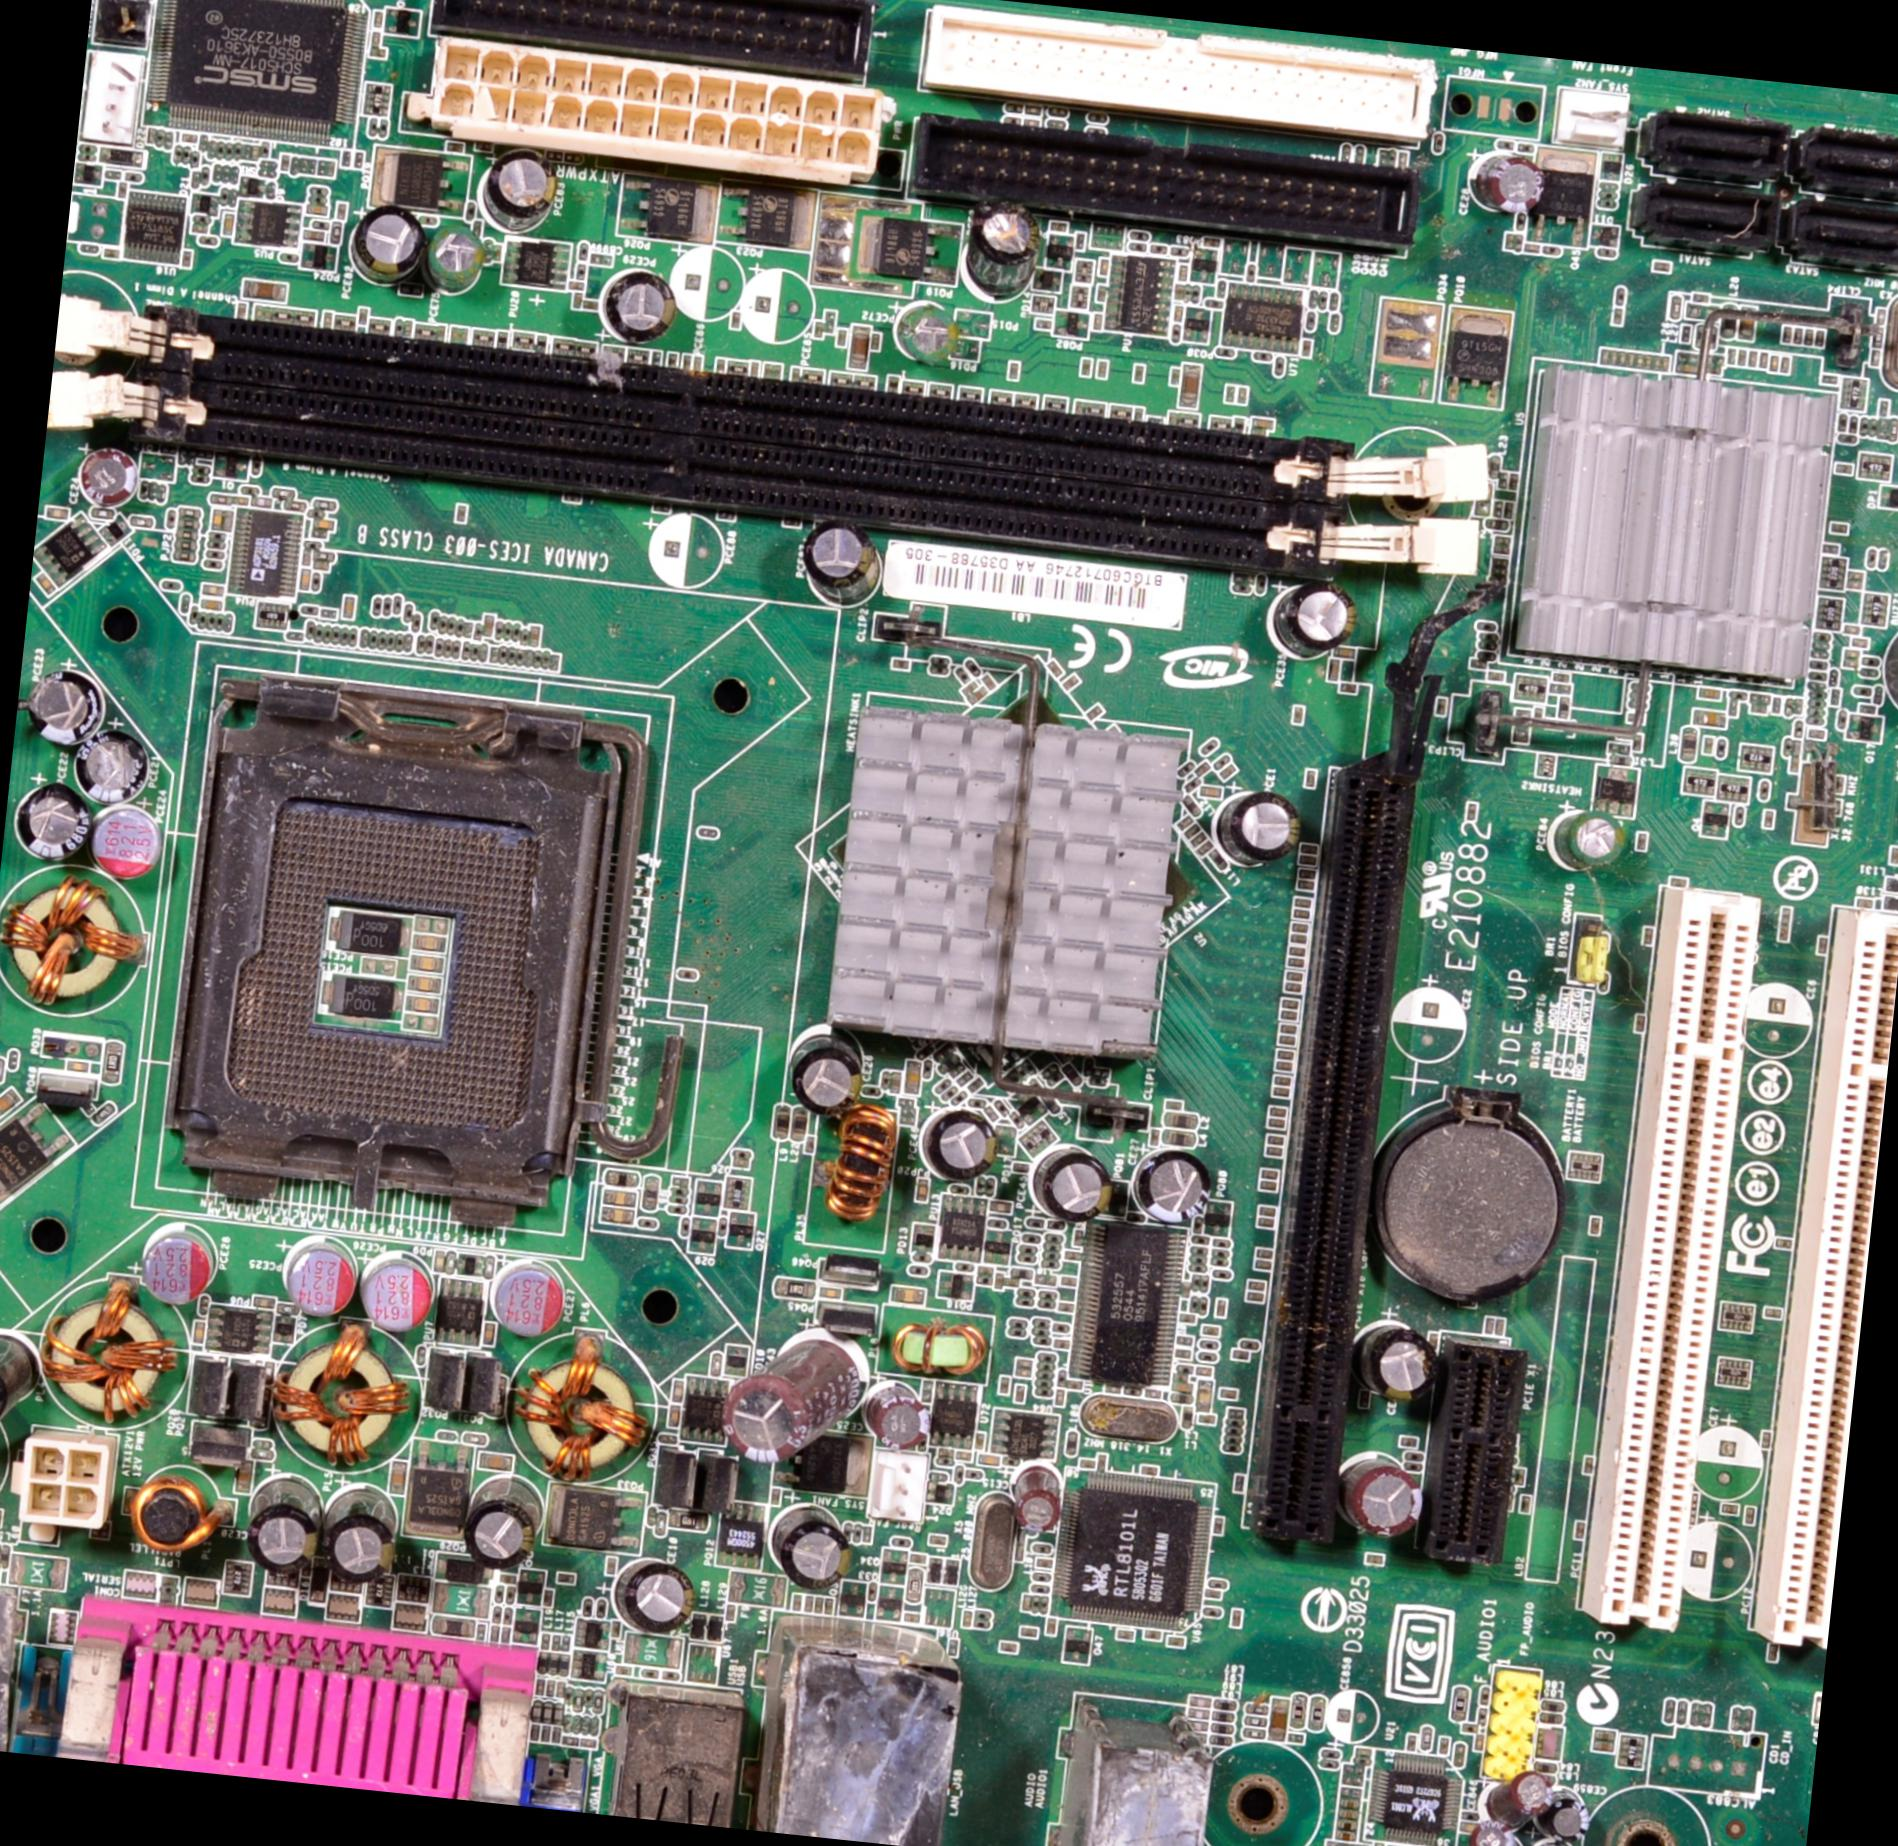Capacitor Jumper: (1476, 149, 1549, 215), (849, 325, 871, 370), (602, 1187, 639, 1210), (386, 1458, 408, 1495), (890, 1285, 929, 1305), (1737, 303, 1757, 341), (1691, 709, 1729, 729), (600, 1207, 634, 1227), (413, 932, 447, 951), (405, 997, 439, 1015), (478, 1451, 512, 1470), (412, 954, 442, 975), (1195, 1380, 1213, 1412), (903, 1061, 920, 1095), (408, 976, 441, 993), (34, 573, 56, 595), (0, 1088, 15, 1115), (915, 1175, 929, 1202), (432, 1248, 446, 1275), (251, 1295, 275, 1310), (191, 1321, 207, 1344), (817, 1287, 842, 1300), (198, 597, 224, 610), (1322, 1838, 1371, 1844), (483, 1321, 497, 1344), (1591, 1739, 1615, 1753), (1234, 385, 1251, 403), (342, 597, 356, 619), (529, 624, 542, 646), (1829, 520, 1847, 536), (1188, 1695, 1212, 1707), (1339, 1797, 1362, 1809), (46, 507, 69, 519), (498, 1624, 512, 1644), (542, 1680, 556, 1700), (1335, 1829, 1356, 1843), (1185, 1719, 1207, 1731), (1339, 1809, 1361, 1821), (305, 202, 327, 214), (302, 229, 324, 241), (1032, 319, 1054, 331), (298, 566, 310, 588), (483, 614, 495, 636), (976, 1454, 1002, 1465), (1493, 1317, 1507, 1336), (1842, 622, 1861, 636), (205, 583, 224, 597), (1590, 1729, 1613, 1739), (474, 1622, 486, 1643), (1185, 1709, 1208, 1719), (1405, 1734, 1417, 1754), (1676, 361, 1696, 373), (1096, 359, 1108, 380), (1832, 463, 1852, 475), (312, 519, 336, 529), (1698, 687, 1722, 697), (1779, 325, 1793, 342), (1130, 364, 1144, 381), (1874, 309, 1886, 327), (1815, 329, 1827, 348), (124, 171, 142, 183), (1747, 349, 1759, 368), (1169, 368, 1181, 386), (1008, 361, 1020, 380), (1224, 385, 1235, 403), (1485, 1315, 1495, 1336), (1173, 1382, 1193, 1392), (1651, 261, 1671, 271), (1768, 353, 1778, 373), (869, 332, 880, 353), (1849, 637, 1869, 648), (1808, 651, 1829, 661), (1806, 681, 1827, 692), (212, 510, 222, 531), (1762, 809, 1773, 829), (373, 10, 385, 27), (1523, 242, 1540, 254), (1659, 354, 1671, 371), (371, 31, 381, 49), (488, 1626, 498, 1644), (1461, 1822, 1479, 1832), (1793, 325, 1803, 344), (1098, 258, 1108, 276), (1847, 570, 1866, 580), (1845, 580, 1864, 590), (230, 495, 249, 505), (312, 561, 330, 571), (181, 132, 197, 144), (1093, 315, 1105, 331), (556, 1680, 566, 1697), (536, 1680, 546, 1697), (1613, 307, 1623, 324), (1803, 327, 1813, 344), (1096, 285, 1107, 302), (1081, 359, 1091, 376), (1788, 754, 1798, 771), (1840, 649, 1859, 658), (956, 1449, 971, 1460), (1600, 348, 1610, 363), (1652, 356, 1662, 371), (1625, 353, 1635, 368), (1813, 641, 1829, 651), (1844, 658, 1859, 668), (281, 154, 290, 171), (1635, 351, 1644, 368), (1871, 351, 1881, 364), (1474, 1732, 1483, 1748), (147, 129, 156, 144), (251, 146, 259, 161), (1618, 351, 1627, 366), (1645, 353, 1652, 370), (1610, 349, 1617, 364)
Connector: (53, 283, 1500, 532), (47, 370, 1479, 590), (1591, 881, 1752, 1634), (54, 1585, 551, 1805), (1768, 905, 1896, 1643), (924, 0, 1437, 149), (912, 110, 1427, 256), (419, 34, 883, 183), (425, 0, 878, 92), (768, 1660, 942, 1844), (597, 1660, 751, 1827), (1063, 1682, 1210, 1844), (1422, 1344, 1510, 1546), (1483, 1665, 1539, 1776), (81, 49, 142, 147)
IC: (144, 0, 371, 149), (1051, 1466, 1212, 1627), (1071, 1219, 1186, 1390), (1364, 1748, 1468, 1844), (227, 507, 303, 598), (1222, 281, 1305, 358), (1105, 253, 1173, 339), (31, 512, 107, 588), (122, 186, 188, 268), (432, 1275, 488, 1346), (234, 195, 305, 251), (500, 236, 571, 290), (986, 1409, 1059, 1460), (934, 1195, 986, 1263), (930, 1382, 980, 1444), (571, 1648, 607, 1683), (573, 1617, 605, 1646)
Resistor Jumper: (381, 7, 420, 37), (100, 1039, 125, 1085), (454, 1251, 488, 1275), (1307, 1693, 1327, 1731), (1288, 1695, 1310, 1727), (1451, 1687, 1468, 1721), (90, 1102, 115, 1124), (1668, 293, 1683, 319), (483, 1254, 497, 1282), (444, 1249, 458, 1275), (591, 1688, 605, 1714), (1418, 1726, 1434, 1748), (129, 515, 153, 529), (173, 549, 197, 563), (1871, 327, 1884, 349), (219, 510, 232, 532), (249, 1449, 273, 1461), (329, 220, 341, 244), (90, 507, 114, 519), (175, 529, 198, 541), (1246, 1705, 1268, 1717), (1244, 1715, 1266, 1727), (176, 517, 198, 529), (175, 539, 197, 551), (573, 1688, 583, 1714), (1806, 727, 1825, 741), (0, 1054, 8, 1083), (1242, 1729, 1266, 1739), (1540, 244, 1561, 256), (1615, 285, 1627, 305), (1812, 631, 1832, 642), (314, 498, 337, 509), (285, 500, 308, 510), (210, 493, 230, 505), (178, 507, 202, 517), (271, 487, 293, 497), (251, 497, 273, 507), (312, 551, 334, 561), (78, 142, 97, 154), (1861, 666, 1879, 678), (76, 153, 97, 163), (1808, 661, 1829, 671), (368, 117, 380, 134), (253, 1439, 271, 1449), (378, 119, 388, 137), (336, 202, 346, 220), (1890, 415, 1896, 441), (1808, 673, 1825, 681), (1830, 666, 1837, 687)
Transistor: (0, 1097, 76, 1210), (851, 210, 964, 286), (615, 171, 722, 246), (402, 1437, 476, 1543), (544, 1482, 646, 1558), (368, 144, 471, 219), (1439, 307, 1513, 410), (717, 178, 819, 253), (1529, 144, 1598, 249), (1590, 763, 1639, 819), (1063, 1622, 1095, 1665), (298, 242, 339, 273), (1052, 307, 1090, 339), (1700, 800, 1730, 839), (1047, 232, 1076, 273), (876, 1583, 905, 1622), (1847, 714, 1884, 742), (880, 1548, 908, 1583), (837, 1578, 866, 1614), (1181, 307, 1210, 342), (215, 451, 249, 480), (102, 514, 130, 546), (1193, 249, 1218, 285), (190, 192, 219, 217), (1034, 268, 1063, 292), (1879, 485, 1896, 510)
